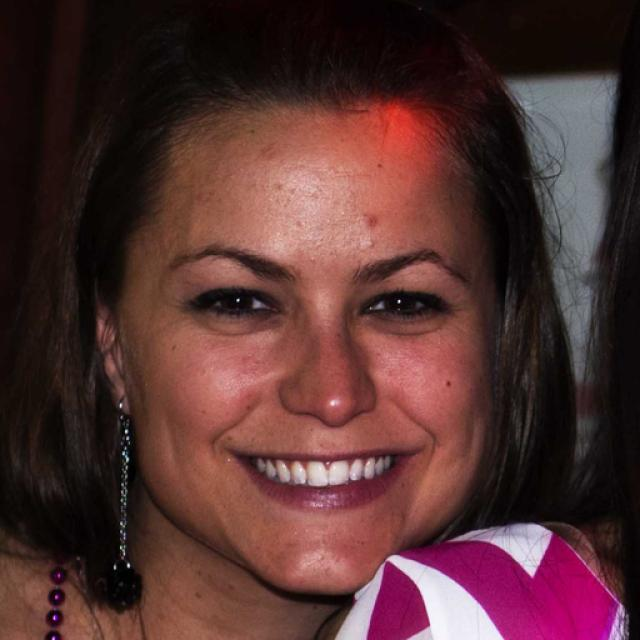Acne: (300, 240, 330, 270), (354, 228, 386, 255), (265, 180, 293, 203), (356, 207, 380, 227)
